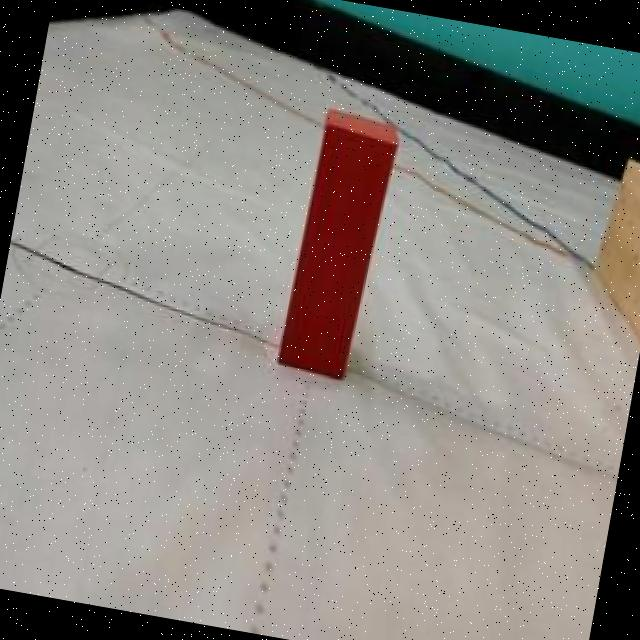redbox: (273, 101, 404, 382)
